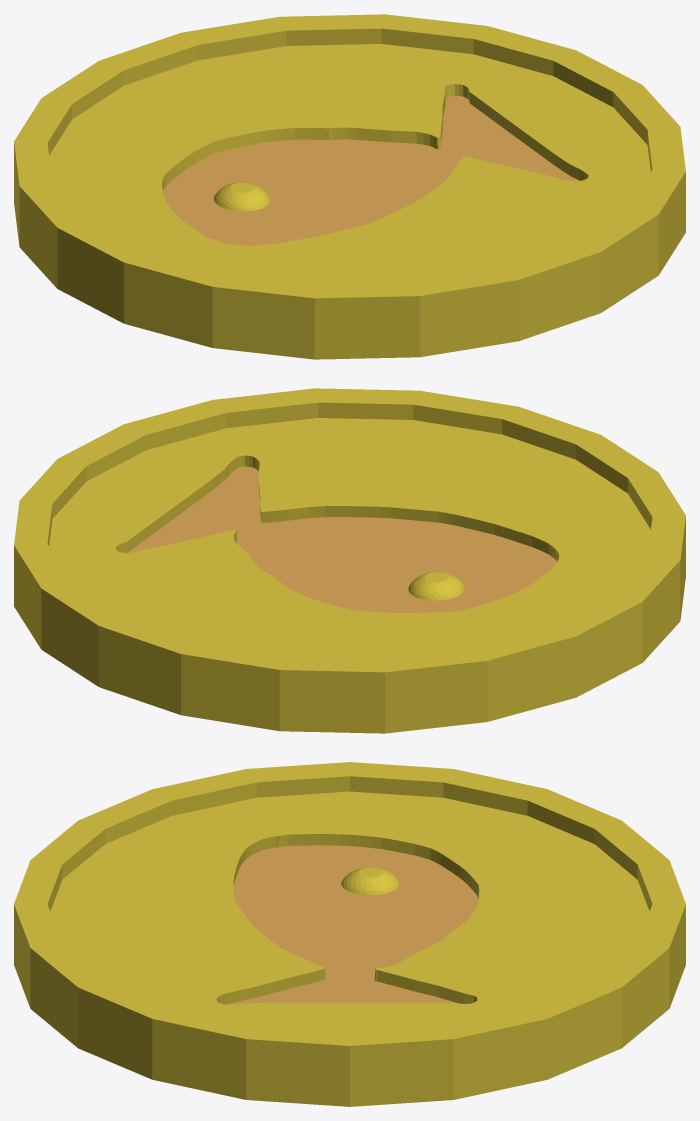
Rendered from Fish Coin.glb.
The picture shows the model from 3 angles, top to bottom: view 1: azimuth 30°, elevation 25°; view 2: azimuth 150°, elevation 25°; view 3: azimuth 270°, elevation 25°; orthographic projection.
Visible parts, largest first — view 1: Mesh_Mesh_head_geo.001_lambert2SG.001; view 2: Mesh_Mesh_head_geo.001_lambert2SG.001; view 3: Mesh_Mesh_head_geo.001_lambert2SG.001.
Boxes of the visible parts, bbox=[...] form: Mesh_Mesh_head_geo.001_lambert2SG.001: bbox=[14, 14, 685, 359]; Mesh_Mesh_head_geo.001_lambert2SG.001: bbox=[14, 388, 685, 733]; Mesh_Mesh_head_geo.001_lambert2SG.001: bbox=[14, 762, 685, 1106].
Bounding box in the file's own units: 20 × 2 × 20.
